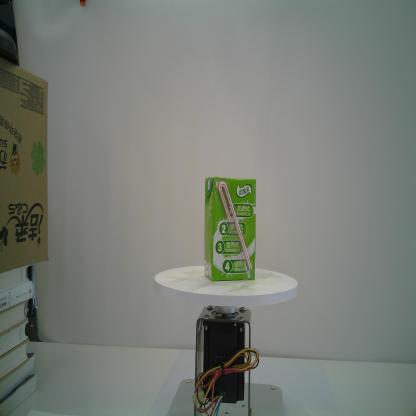Milk: (204, 174, 258, 284)
